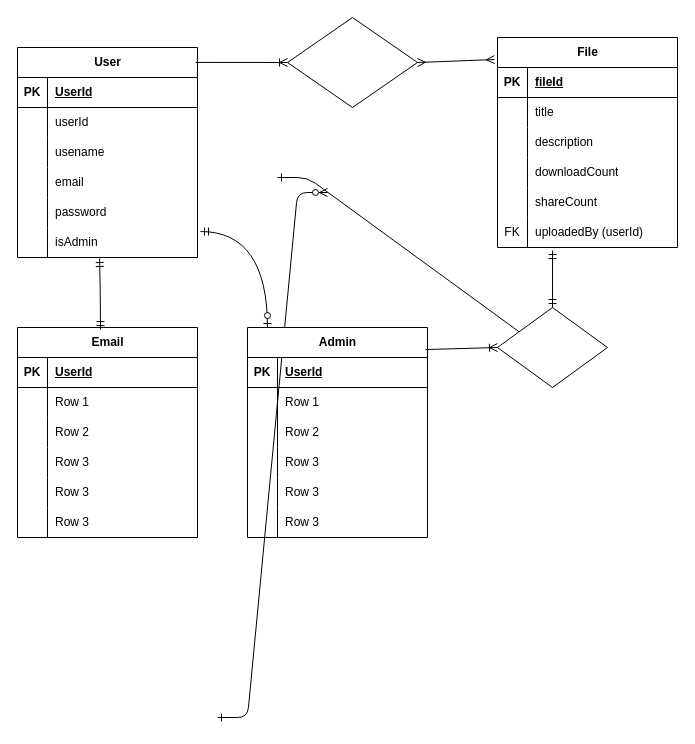
Some shapes in this 695 by 744 pixel diagram are drawn without their labels. Here are the shapes that lost their labels. From the top down, the centre of each, then its label:
the point at 352,62: Downnloads
the point at 552,347: Uploads
